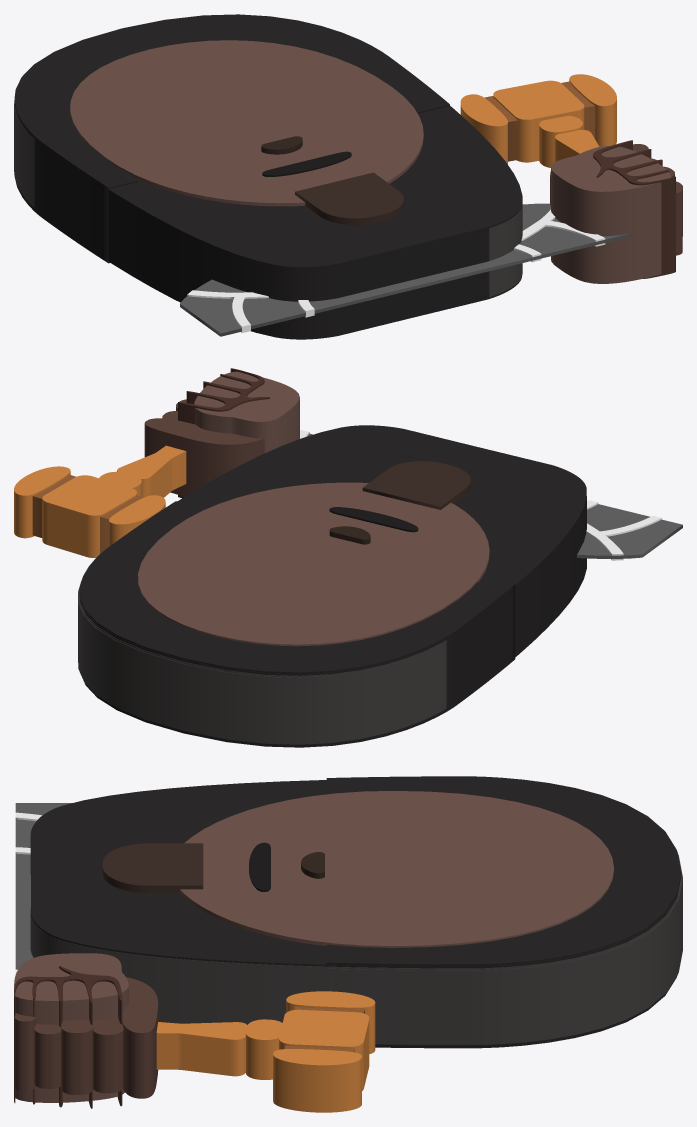
The model's file is emoji_u1f469_1f3ff_200d_2696.glb.
3 renders of one model, top to bottom at view 1: azimuth 30°, elevation 25°; view 2: azimuth 150°, elevation 25°; view 3: azimuth 270°, elevation 25°, orthographic. The views are drawn at different scales.
Parts seen in each view (by area): view 1: emoji_u1f469_1f3ff_200d_2696; view 2: emoji_u1f469_1f3ff_200d_2696; view 3: emoji_u1f469_1f3ff_200d_2696.
Boxes of the visible parts, bbox=[...] form: emoji_u1f469_1f3ff_200d_2696: bbox=[14, 14, 682, 339]; emoji_u1f469_1f3ff_200d_2696: bbox=[14, 368, 682, 747]; emoji_u1f469_1f3ff_200d_2696: bbox=[14, 776, 682, 1112].
Bounding box in the file's own units: 0.0334 × 0.0058 × 0.0333.
